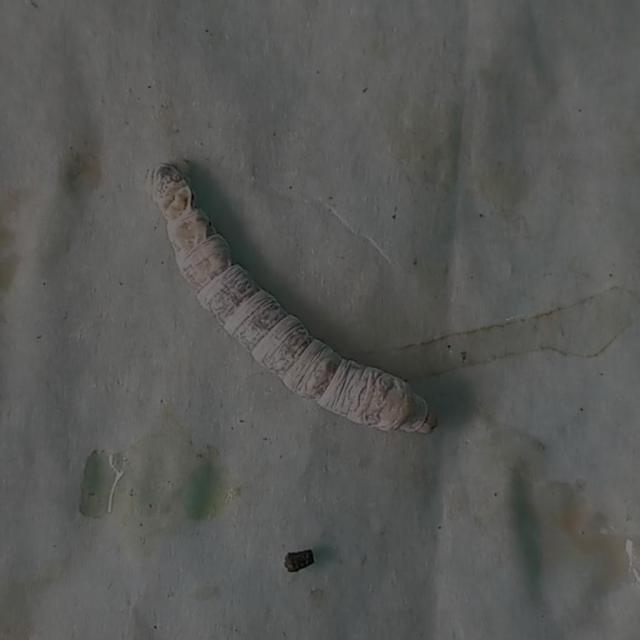Grasserie: (111, 138, 463, 462)
